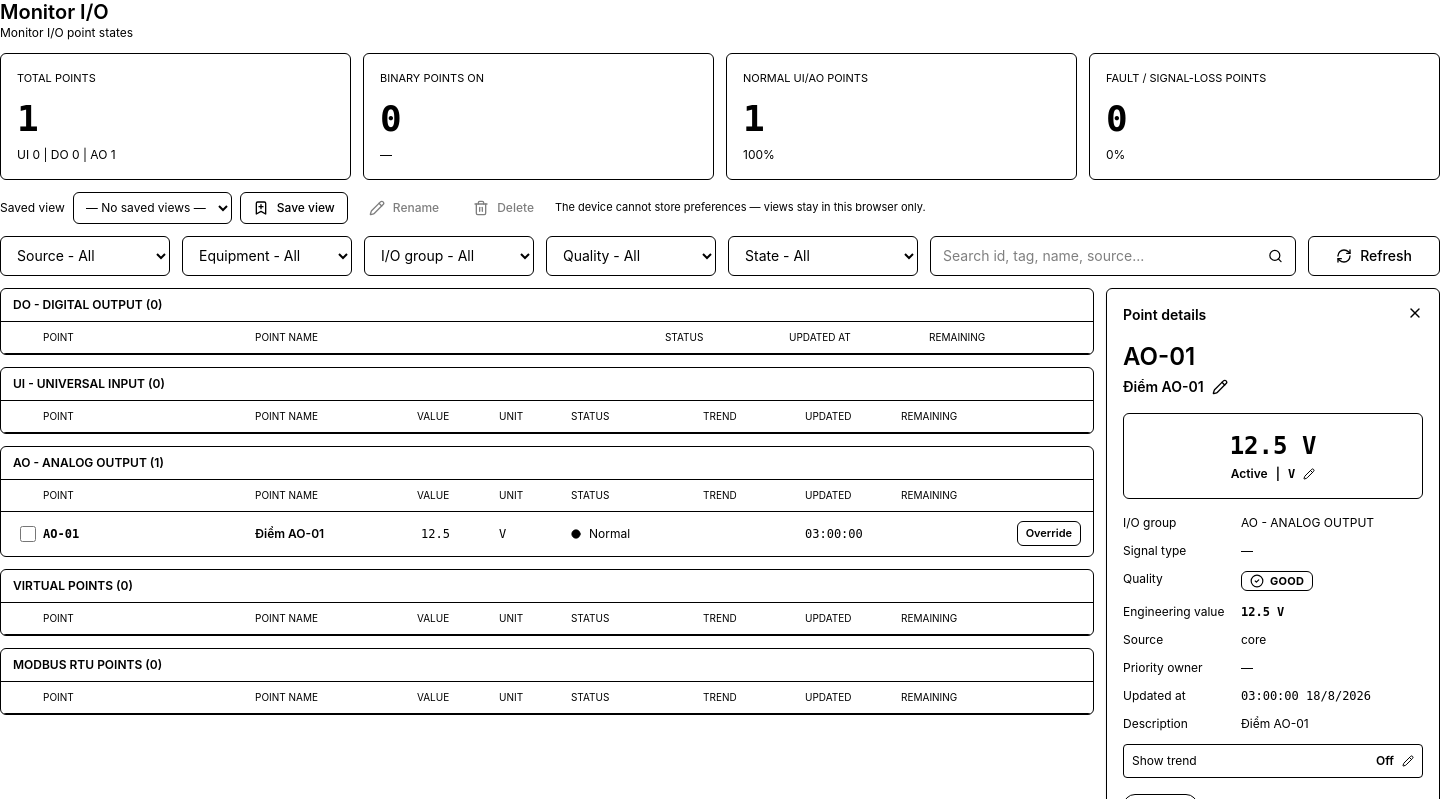
Test: F-UX-06 — lệnh ép tay phải đi qua nút CÓ NHÃN, không phải ô biểu đồ ẩn › hàng AO có nút hành động đọc được
The width and height of the screenshot is (1440, 799).
Click the button "Override" at (1049, 534), box [1017,521,1081,546]
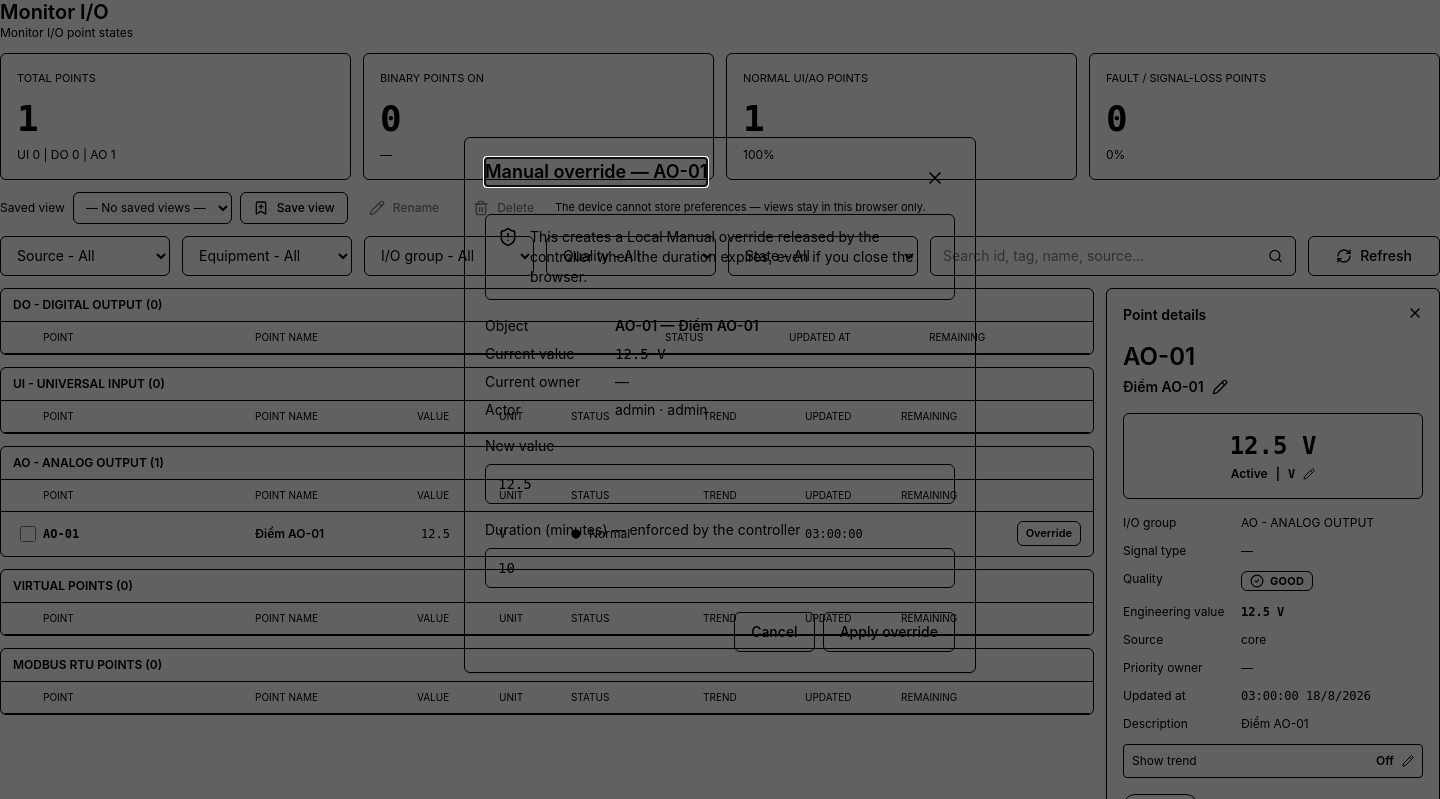
Expected: the dialog is shown, [464,137,976,673]
